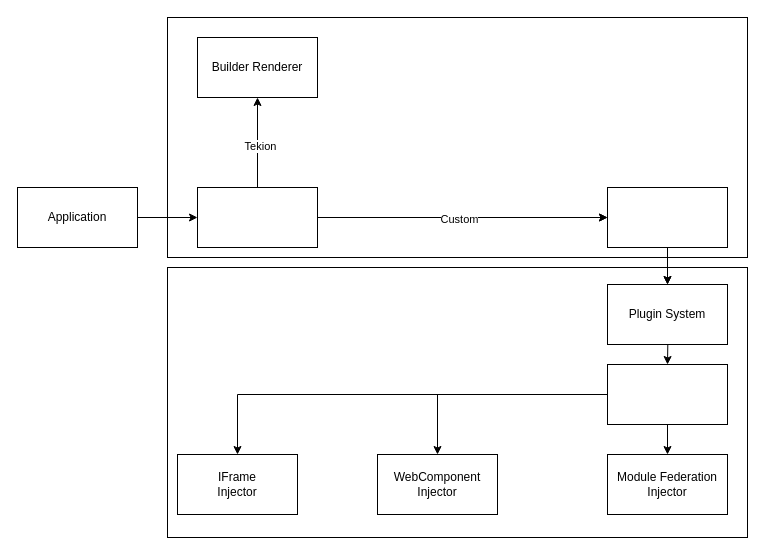
The diagram is 765 pixels wide and 555 high, and some of its shapes have lost their labels. Here are the shapes that lost their labels. From the top down, the centre of each, then its label:
At point (257, 217): "UI Decider".
At point (667, 217): "Genric Step Handler".
At point (667, 394): "Node module & Module Federation".
